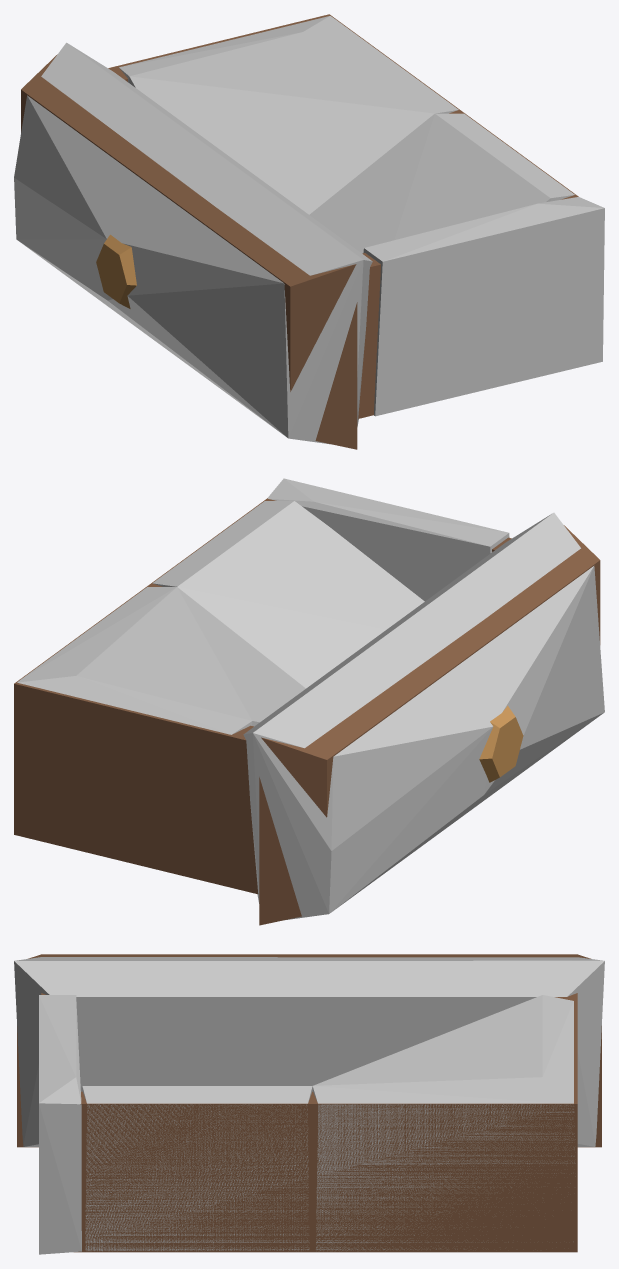
File: SM_Prop_Cabinet_01_Drawer_r_01.fbx
3 renders of one model, top to bottom at view 1: azimuth 30°, elevation 25°; view 2: azimuth 150°, elevation 25°; view 3: azimuth 270°, elevation 25°, orthographic.
Visible parts, largest first — view 1: SM_Prop_Cabinet_01_Drawer_r_01_ConvexHulls, SM_Prop_Cabinet_01_Drawer_r_01; view 2: SM_Prop_Cabinet_01_Drawer_r_01_ConvexHulls, SM_Prop_Cabinet_01_Drawer_r_01; view 3: SM_Prop_Cabinet_01_Drawer_r_01_ConvexHulls, SM_Prop_Cabinet_01_Drawer_r_01.
Part boxes in pixels (bbox=[...]): SM_Prop_Cabinet_01_Drawer_r_01_ConvexHulls: bbox=[14, 16, 604, 444]; SM_Prop_Cabinet_01_Drawer_r_01: bbox=[21, 14, 578, 449]; SM_Prop_Cabinet_01_Drawer_r_01_ConvexHulls: bbox=[17, 478, 604, 919]; SM_Prop_Cabinet_01_Drawer_r_01: bbox=[14, 498, 600, 925]; SM_Prop_Cabinet_01_Drawer_r_01_ConvexHulls: bbox=[14, 957, 604, 1254]; SM_Prop_Cabinet_01_Drawer_r_01: bbox=[17, 954, 601, 1252].
Bounding box in the file's own units: 24.43 × 35.19 × 12.41.
Materials: 2 (1 with a texture image).
